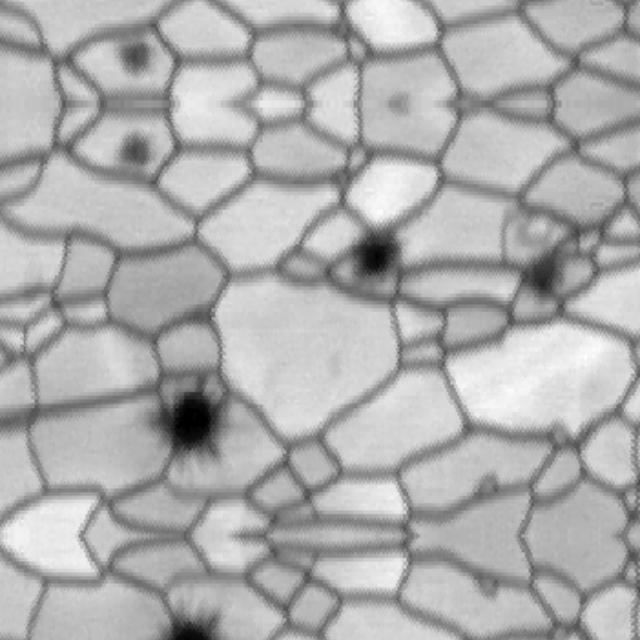good_void: (137, 383, 234, 468), (348, 232, 403, 287), (513, 240, 562, 301), (146, 606, 224, 640), (117, 133, 155, 169), (117, 41, 155, 76)
